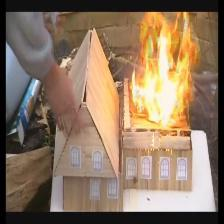fire: (124, 12, 202, 132)
